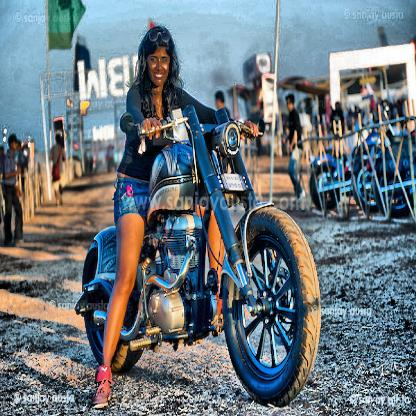not_wear: (141, 26, 173, 86)
